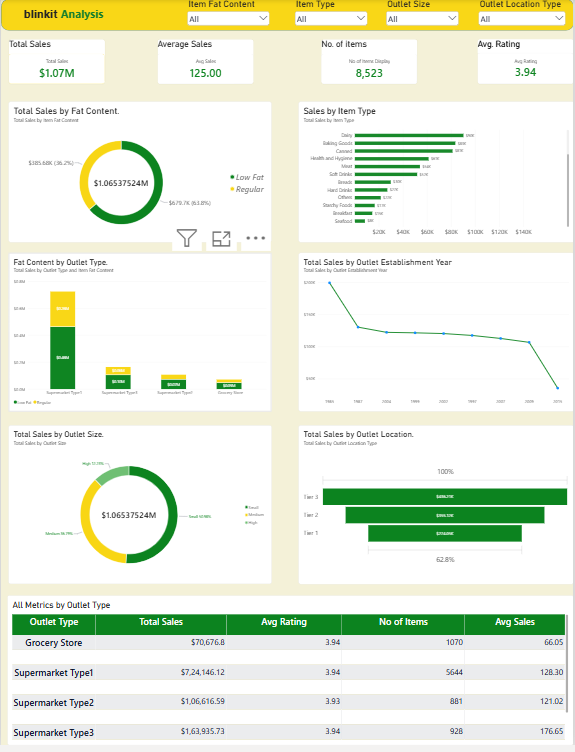

This screenshot's page, from the dashboard's own definition file:
{"tool":"powerbi","page":{"name":"Page 1","canvas":[1920,2500],"ordinal":0},"visuals":[{"type":"cardVisual","title":"Total Sales","fields":{"Data":["blinkit_clean.Total Sales"]},"box":[23.5,135.7,323.9,152],"z":0},{"type":"shape","box":[0,0,1920,106],"z":1000},{"type":"textbox","box":[26,24,772,112],"z":2000},{"type":"cardVisual","title":"Average Sales","fields":{"Data":["blinkit_clean.Avg Sales"]},"box":[524.8,135.7,323.9,152],"z":3000},{"type":"cardVisual","title":"Avg. Rating","fields":{"Data":["blinkit_clean.Avg Rating"]},"box":[1596.1,135.7,323.9,152],"z":4000},{"type":"cardVisual","title":"No. of items","fields":{"Data":["blinkit_clean.No of Items Display"]},"box":[1071.3,135.7,323.9,152],"z":5000},{"type":"donutChart","title":"Total Sales by Fat Content.","fields":{"Category":["blinkit_clean.Item Fat Content"],"Y":["blinkit_clean.Total Sales"]},"box":[26.7,341.7,881.7,471.7],"z":6000},{"type":"clusteredBarChart","title":"Sales by Item Type","fields":{"Category":["blinkit_clean.Item Type"],"Y":["blinkit_clean.Total Sales"]},"box":[996,342,924,472],"z":7000},{"type":"columnChart","title":"Fat Content by Outlet Type.","fields":{"Category":["blinkit_clean.Outlet Type"],"Series":["blinkit_clean.Item Fat Content"],"Y":["blinkit_clean.Total Sales"]},"box":[26,850,882,532],"z":8000},{"type":"lineChart","title":"Total Sales by Outlet Establishment Year","fields":{"Category":["blinkit_clean.Outlet Establishment Year"],"Y":["blinkit_clean.Total Sales"]},"box":[996,850,924,532],"z":9000},{"type":"donutChart","title":"Total Sales by Outlet Size.","fields":{"Category":["blinkit_clean.Outlet Size"],"Y":["blinkit_clean.Total Sales"]},"box":[23.3,1428.3,882,532],"z":10000},{"type":"funnel","title":"Total Sales by Outlet Location.","fields":{"Category":["blinkit_clean.Outlet Location Type"],"Y":["blinkit_clean.Total Sales"]},"box":[997.5,1427.5,922.5,532.5],"z":11000},{"type":"pivotTable","title":"All Metrics by Outlet Type","fields":{"Rows":["blinkit_clean.Outlet Type"],"Values":["blinkit_clean.Total Sales","blinkit_clean.Avg Rating","blinkit_clean.No of Items","blinkit_clean.Avg Sales"]},"box":[22.5,1997.5,1897.5,502.5],"z":12000},{"type":"slicer","fields":{"Values":["blinkit_clean.Item Fat Content"]},"box":[622,0,284,112],"z":13000},{"type":"slicer","fields":{"Values":["blinkit_clean.Item Type"]},"box":[982,0,252,112],"z":14000},{"type":"slicer","fields":{"Values":["blinkit_clean.Outlet Size"]},"box":[1288,0,252,112],"z":15000},{"type":"slicer","fields":{"Values":["blinkit_clean.Outlet Location Type"]},"box":[1596,0,300,112],"z":16000}]}

Visuals, with their boxes in screenshot pixels (x1, y1, x2, y2), scaled from the page's 1920x2500 canvas onto the 575x752 screenshot:
"Total Sales" cardVisual: 7, 41, 104, 87
shape: 0, 0, 574, 32
textbox: 8, 7, 239, 41
"Average Sales" cardVisual: 157, 41, 254, 87
"Avg. Rating" cardVisual: 478, 41, 574, 87
"No. of items" cardVisual: 321, 41, 418, 87
"Total Sales by Fat Content." donutChart: 8, 103, 272, 245
"Sales by Item Type" clusteredBarChart: 298, 103, 574, 245
"Fat Content by Outlet Type." columnChart: 8, 256, 272, 416
"Total Sales by Outlet Establishment Year" lineChart: 298, 256, 574, 416
"Total Sales by Outlet Size." donutChart: 7, 430, 271, 590
"Total Sales by Outlet Location." funnel: 299, 429, 574, 590
"All Metrics by Outlet Type" pivotTable: 7, 601, 574, 751
slicer - blinkit_clean.Item Fat Content: 186, 0, 271, 34
slicer - blinkit_clean.Item Type: 294, 0, 370, 34
slicer - blinkit_clean.Outlet Size: 386, 0, 461, 34
slicer - blinkit_clean.Outlet Location Type: 478, 0, 568, 34
